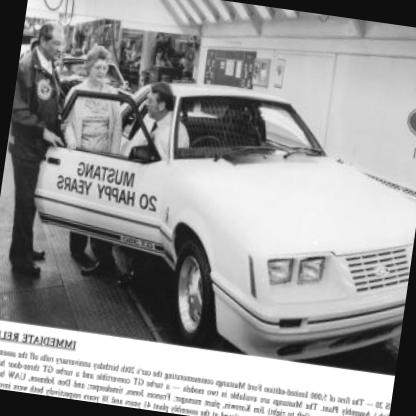car: (0, 42, 415, 375), (49, 49, 139, 124)
